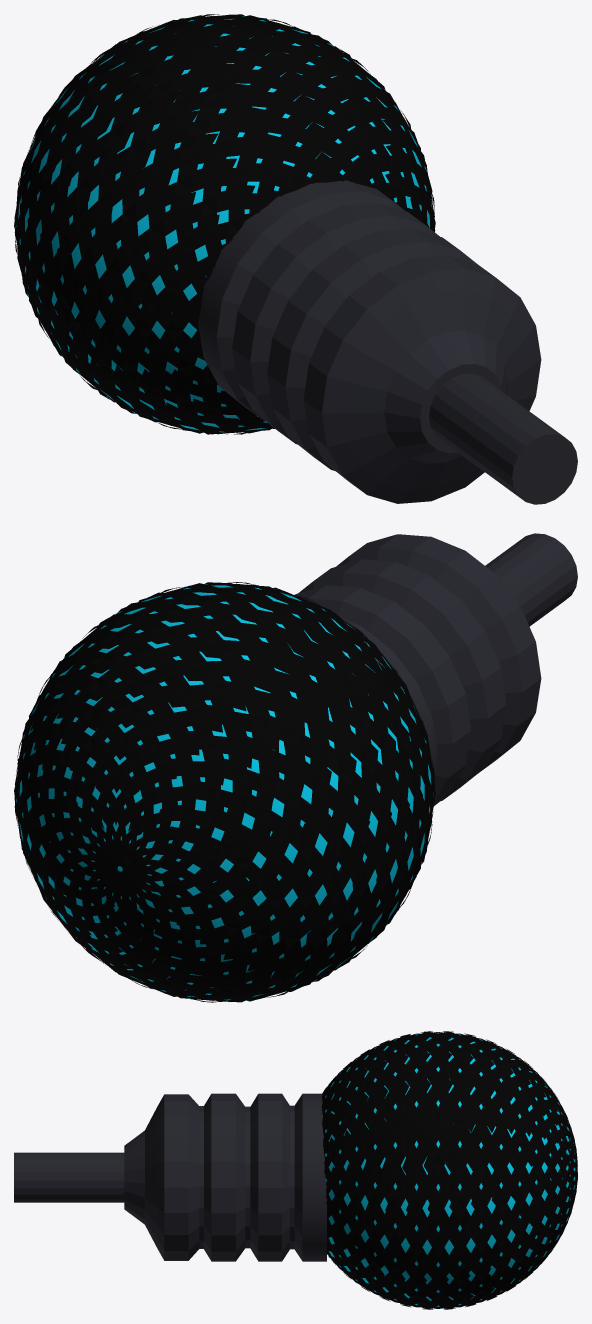
The model's file is riffelLAZER.fbx.
3 renders of one model, top to bottom at view 1: azimuth 30°, elevation 25°; view 2: azimuth 150°, elevation 25°; view 3: azimuth 270°, elevation 25°, orthographic. The views are drawn at different scales.
Parts seen in each view (by area): view 1: pCylinder1, pSphere2, pSphere4, pSphere1; view 2: pSphere2, pCylinder1, pSphere4, pSphere1; view 3: pSphere2, pCylinder1, pSphere4, pSphere1.
Boxes of the visible parts, x1,y1,x2,y2 form: pCylinder1: (198,180,577,504); pSphere2: (14,14,435,434); pSphere4: (15,14,434,434); pSphere1: (15,16,432,432); pSphere2: (14,582,435,1002); pCylinder1: (295,533,577,806); pSphere4: (14,582,434,1002); pSphere1: (16,584,433,1000); pSphere2: (321,1032,577,1308); pCylinder1: (14,1093,326,1261); pSphere4: (326,1031,577,1309); pSphere1: (325,1032,575,1306).
Size of the model in its own units: 2.08 by 2.08 by 4.19.
